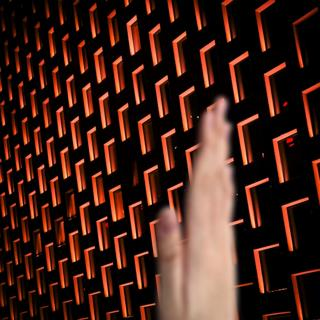Right: (152, 88, 245, 317)
